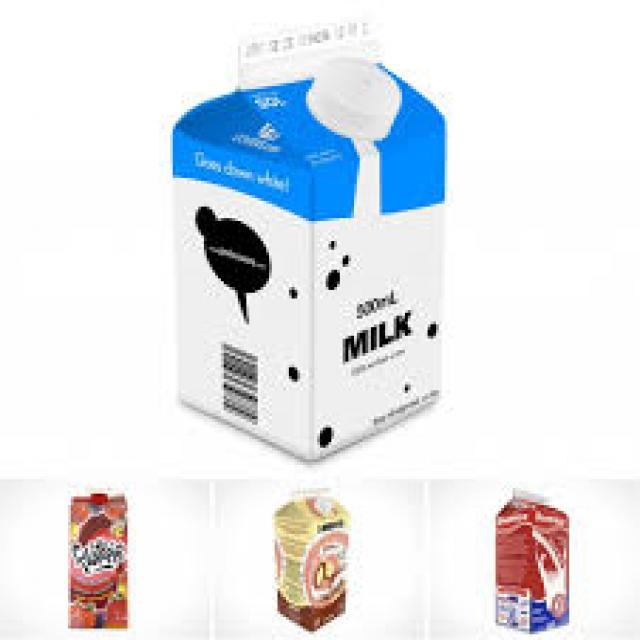non_white_jug: (159, 23, 456, 465), (478, 488, 594, 637), (264, 485, 366, 637), (60, 485, 133, 620)
